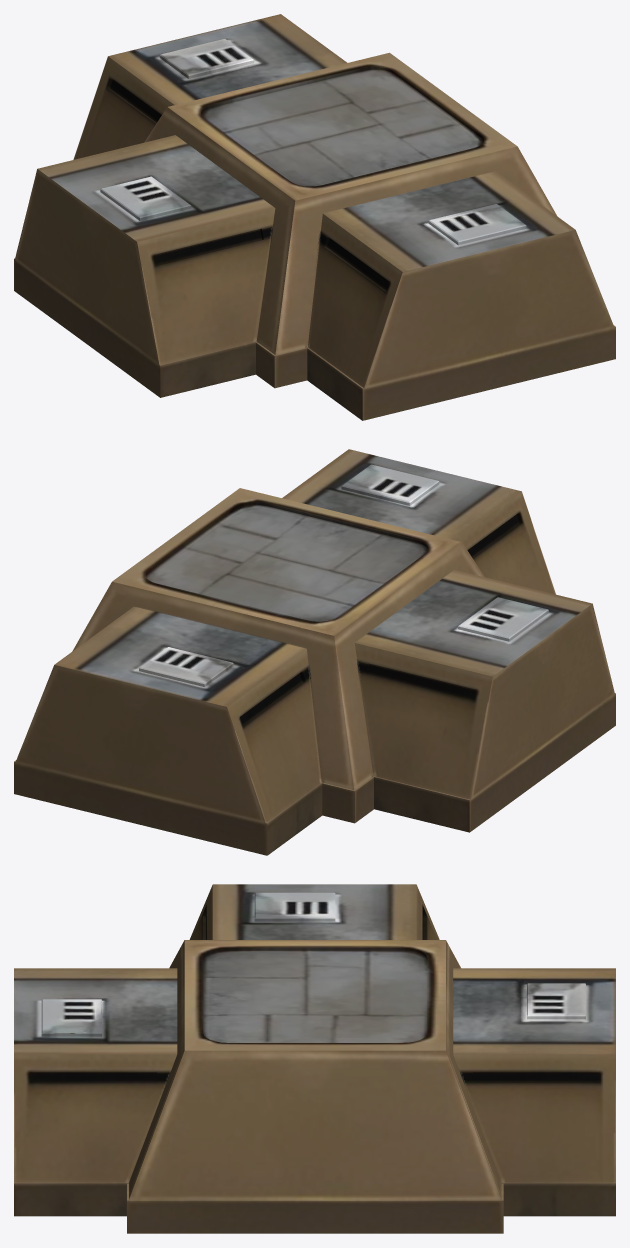
File: hpg_threeway_cad.glb
3 views of the same model, one above another, from view 1: azimuth 30°, elevation 25°; view 2: azimuth 150°, elevation 25°; view 3: azimuth 270°, elevation 25° (orthographic). The views are drawn at different scales.
Visible parts, largest first — view 1: halfie; view 2: halfie; view 3: halfie.
Part boxes in pixels (x1,y1,x2,y2): halfie: (14, 14, 615, 420); halfie: (14, 449, 615, 855); halfie: (14, 884, 615, 1233).
Bounding box in the file's own units: 20.87 × 7.44 × 25.63.
1 material, 1 textured.
